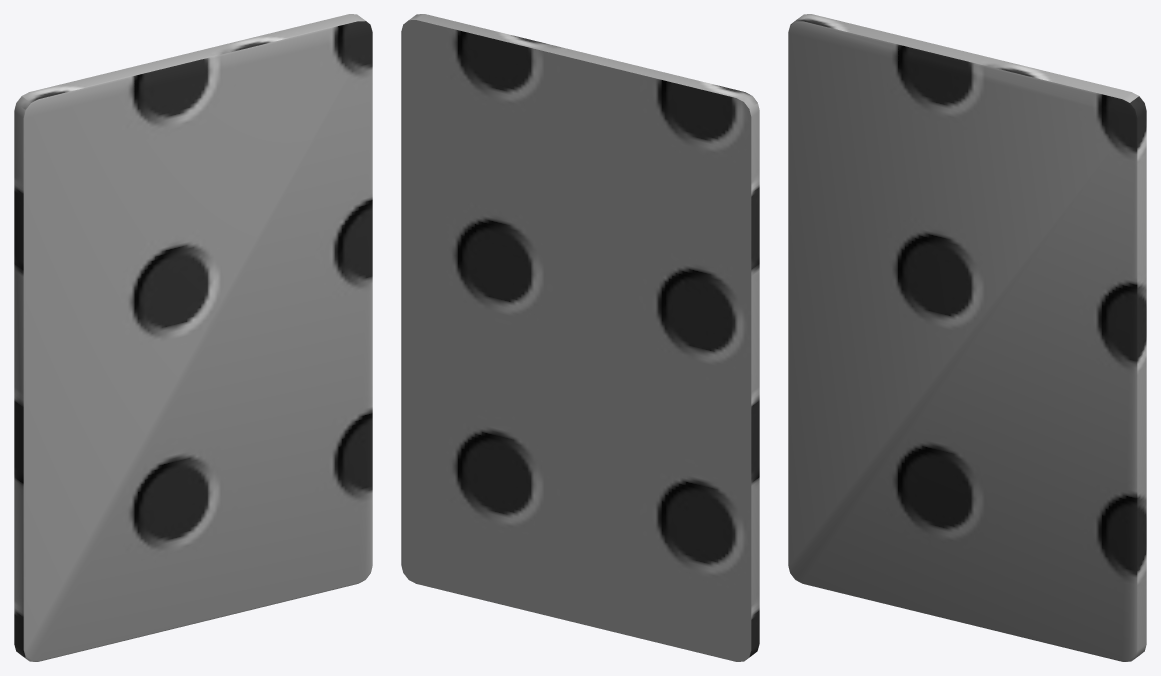
Rendered from pegBoard.fbx.
3 renders of one model, left to right at view 1: azimuth 30°, elevation 25°; view 2: azimuth 150°, elevation 25°; view 3: azimuth 330°, elevation 25°, orthographic.
Visible parts, largest first — view 1: Cube; view 2: Cube; view 3: Cube.
Part boxes in pixels (box(x1,y1,x2,y2)): Cube: box(14, 14, 372, 661); Cube: box(401, 14, 759, 661); Cube: box(788, 14, 1146, 661).
Bounding box in the file's own units: 65 × 100 × 3.
1 material, 1 textured.
